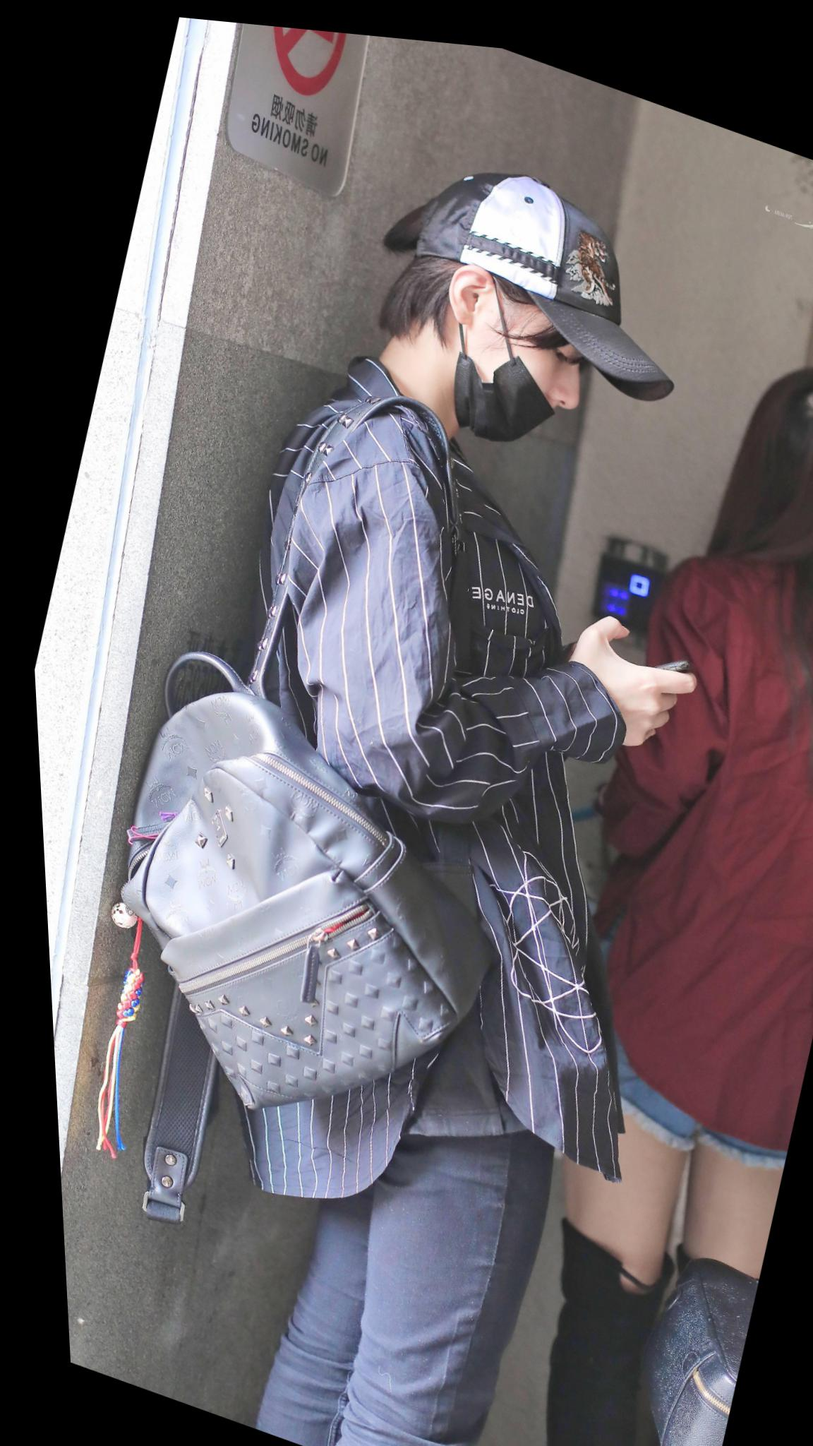WRONG: (448, 273, 601, 461)
